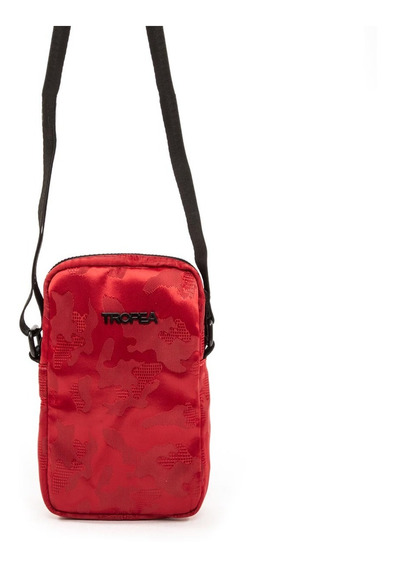cartera: (18, 22, 216, 521)
